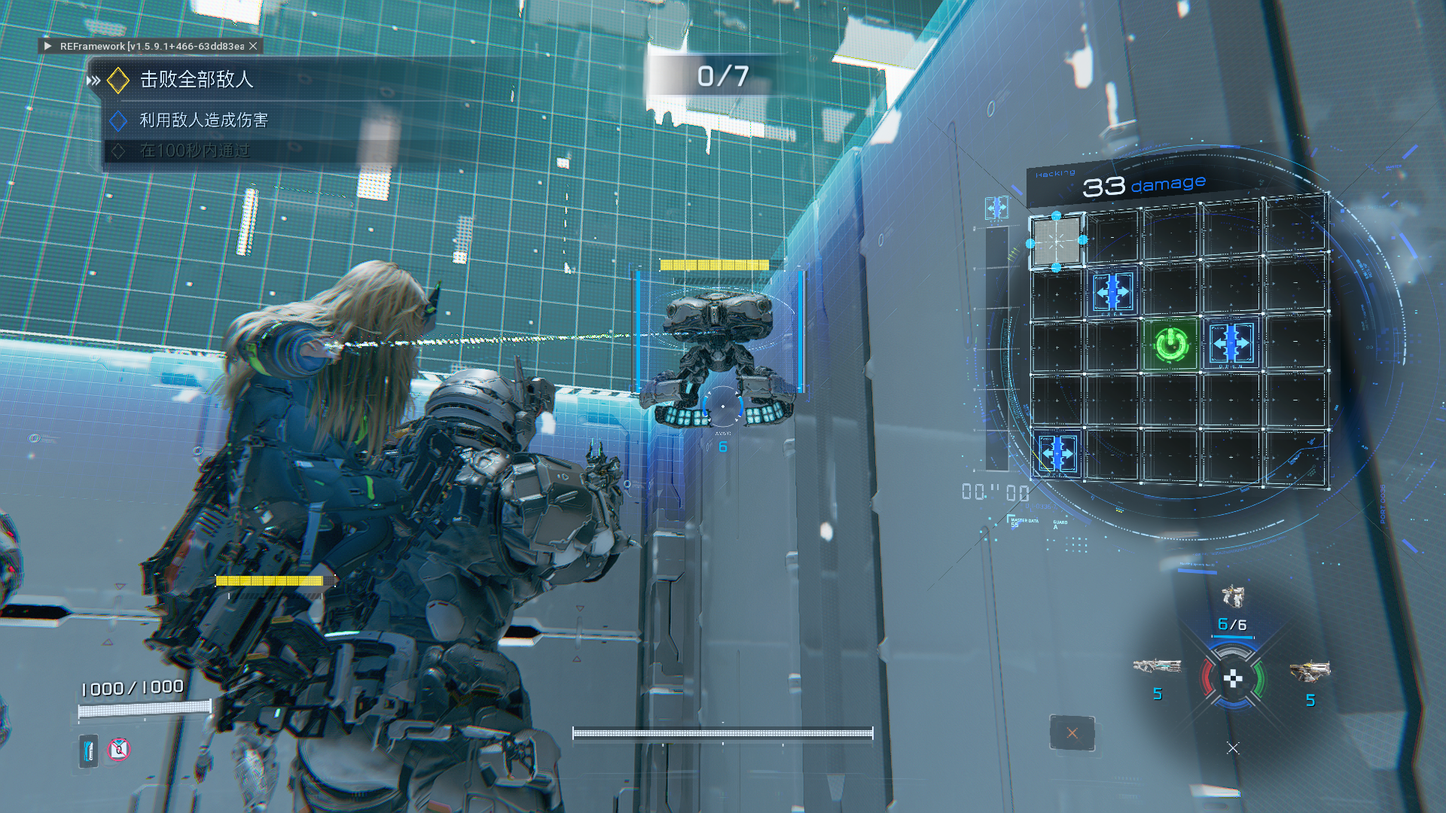puzzle_panel: (1028, 187, 1330, 494)
